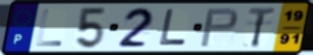2: (114, 5, 158, 50)
5: (73, 5, 107, 50)
L: (157, 8, 189, 48), (35, 8, 65, 48)
P: (197, 7, 240, 49)
T: (246, 6, 278, 50)
